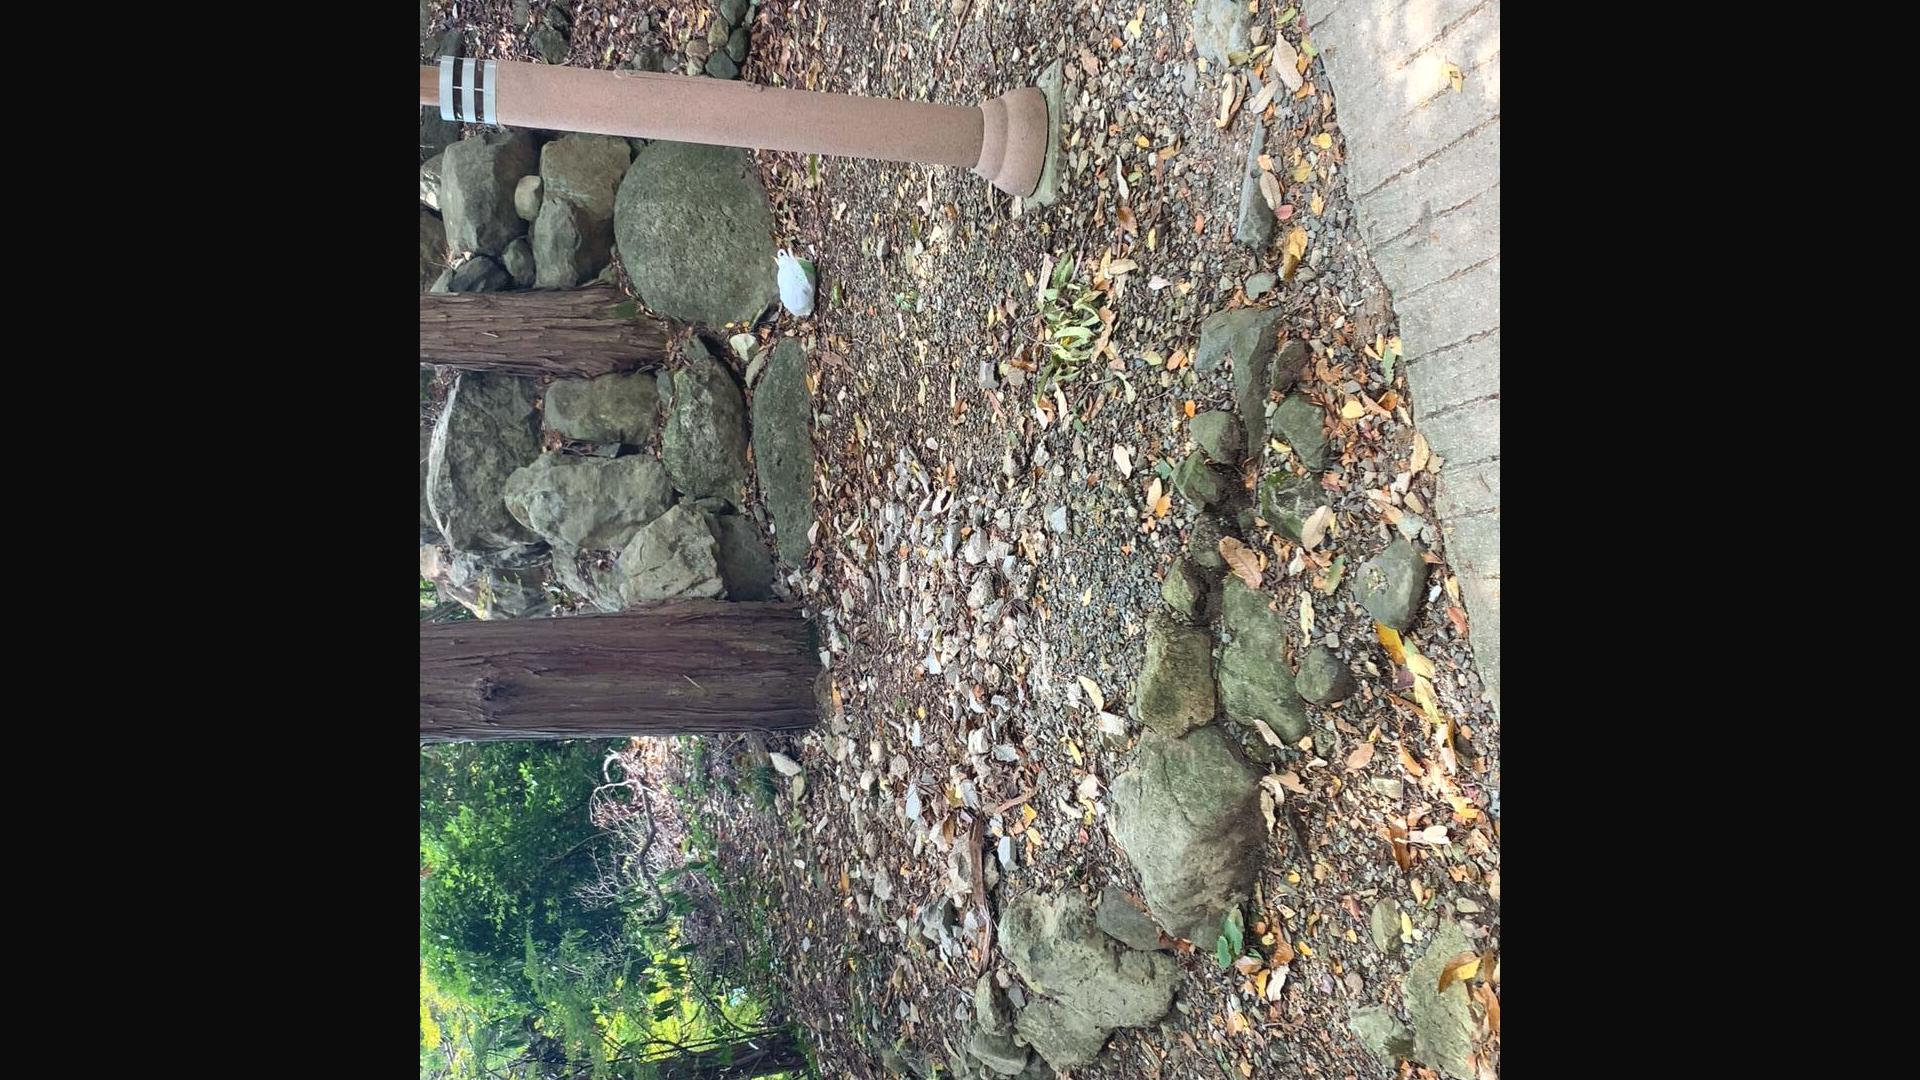white_bag: (767, 244, 820, 320)
